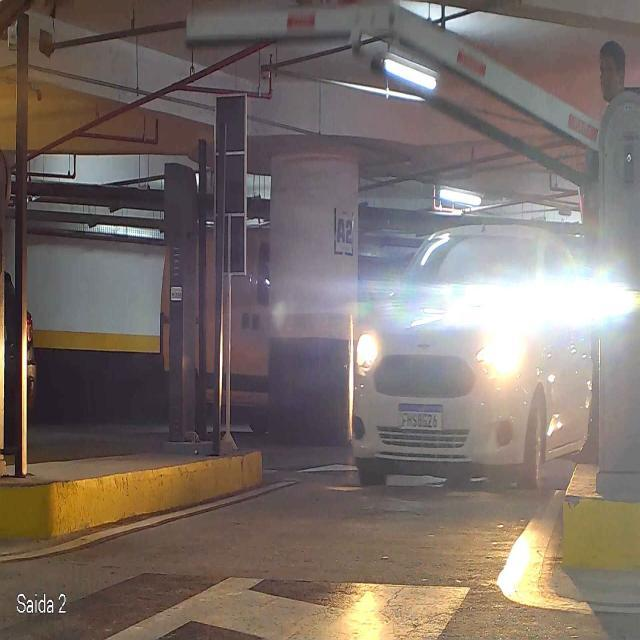mercosul_plate: (398, 403, 443, 431)
